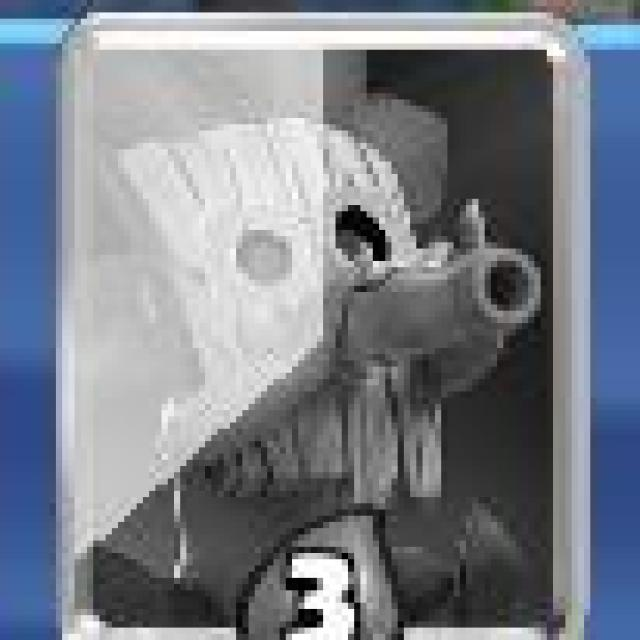Dart_Goblin: (51, 3, 594, 640)
